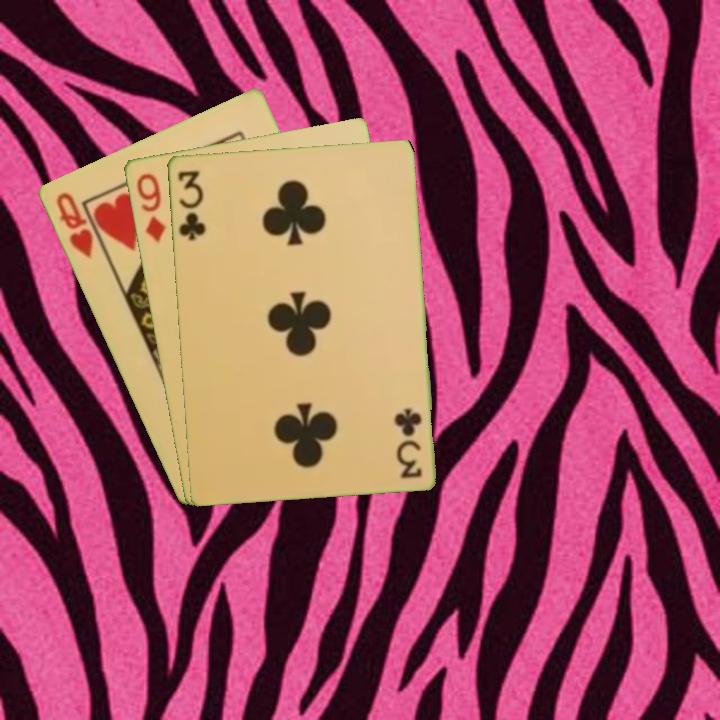3c: (174, 166, 208, 243), (393, 404, 424, 481)
9d: (132, 169, 168, 246)
Qh: (51, 188, 96, 262)
